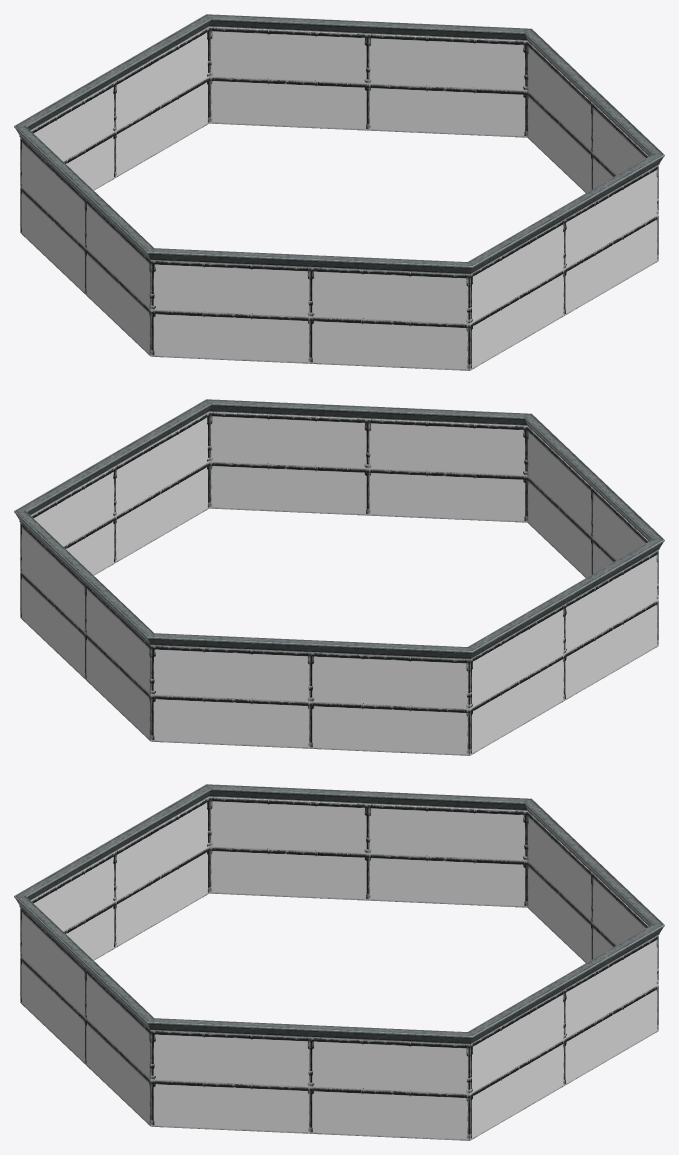
The model's file is Helper1.fbx.
The picture shows the model from 3 angles, top to bottom: view 1: azimuth 30°, elevation 25°; view 2: azimuth 150°, elevation 25°; view 3: azimuth 270°, elevation 25°; orthographic projection.
Parts seen in each view (by area): view 1: Shape03; view 2: Shape03; view 3: Shape03.
Part boxes in pixels (<box>): Shape03: <box>14,14,664,370</box>; Shape03: <box>14,399,664,755</box>; Shape03: <box>14,784,664,1140</box>.
Bounding box in the file's own units: 529 × 104 × 576.
